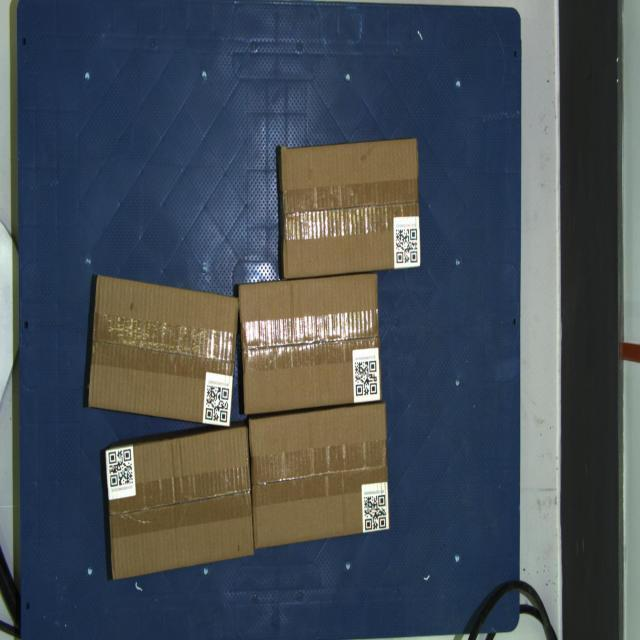box: (89, 274, 238, 428), (105, 426, 254, 580), (249, 402, 390, 550), (240, 273, 382, 415), (282, 138, 421, 279)
